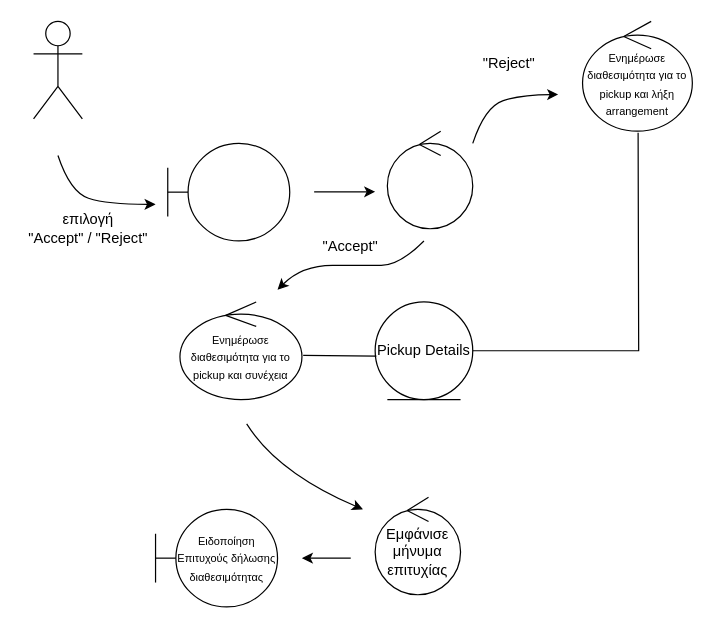
Image size: 714x628. Some labels were removed from this diagram. Here are the shapes that lost their labels. From the top down, the centre of each, then its label:
At [57,69]: "Carpooler".
At [228,191]: "Σελίδα λεπτομεριών pickup arangement".
At [429,179]: "Έλεγχος επιλογής".
